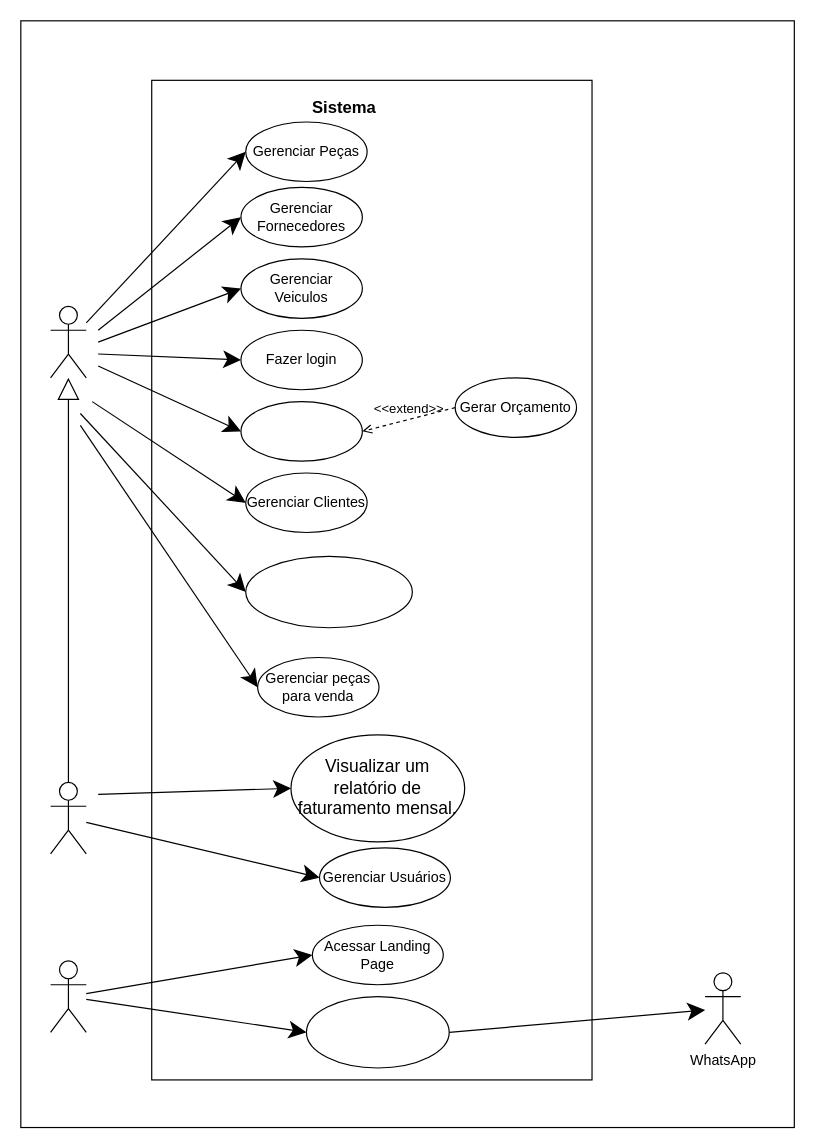
Some shapes in this 815 by 1148 pixel diagram are drawn without their labels. The centre of each missing label's shape, as x and y in pixels:
"Administrador" goes at point 67,817.
"Cliente" goes at point 67,996.
"Entrar em contato pelo WhatsApp" goes at point 377,1031.
"Funcionário" goes at point 67,341.
"Gerenciar o tempo de garantia." goes at point 328,591.
"Gerenciar Serviços" goes at point 301,430.
